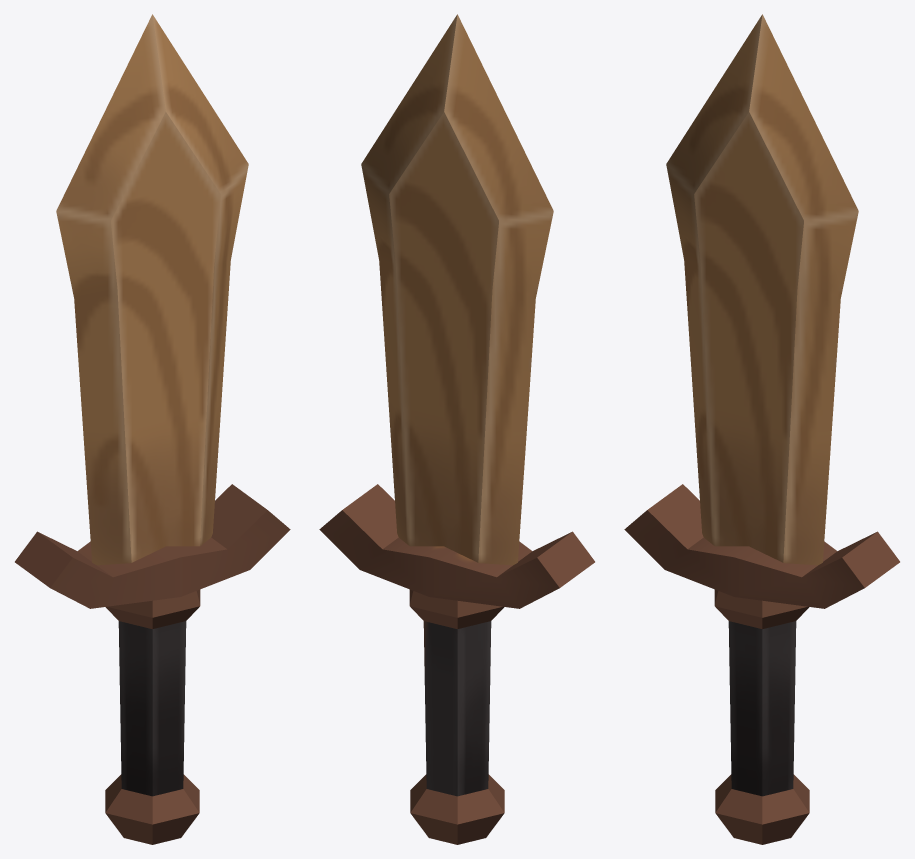
The model's file is Weapon_Sword_01.fbx.
3 views of the same model, side by side, from view 1: azimuth 30°, elevation 25°; view 2: azimuth 150°, elevation 25°; view 3: azimuth 330°, elevation 25° (orthographic).
Visible parts, largest first — view 1: Weapon_Sword_01_Wood, Weapon_Sword_01_Handle; view 2: Weapon_Sword_01_Wood, Weapon_Sword_01_Handle; view 3: Weapon_Sword_01_Wood, Weapon_Sword_01_Handle.
Part boxes in pixels (box(x1,y1,x2,y2)): Weapon_Sword_01_Wood: box(15, 14, 290, 844); Weapon_Sword_01_Handle: box(118, 621, 186, 796); Weapon_Sword_01_Wood: box(319, 14, 594, 844); Weapon_Sword_01_Handle: box(423, 621, 491, 796); Weapon_Sword_01_Wood: box(624, 14, 899, 844); Weapon_Sword_01_Handle: box(728, 621, 796, 796).
Size of the model in its own units: 0.3118 by 1.01 by 0.1268.
